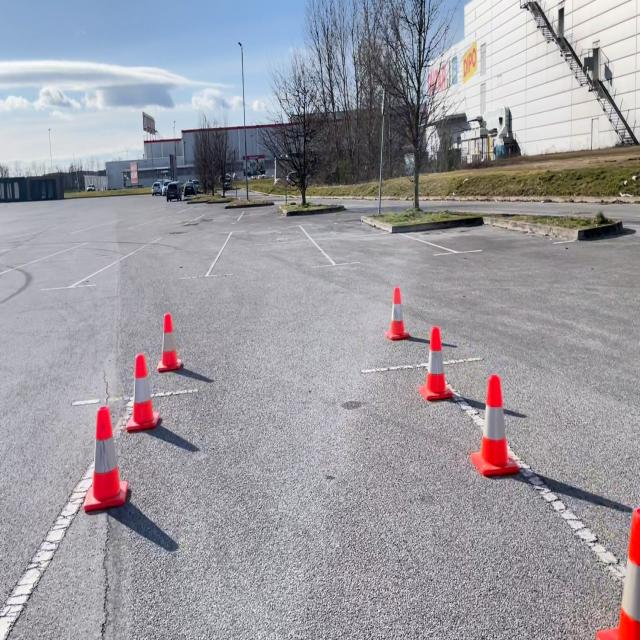orange_cone: (593, 508, 640, 639), (469, 370, 521, 477), (81, 404, 128, 512), (124, 350, 160, 432), (418, 324, 454, 400), (156, 310, 182, 371), (384, 284, 410, 341)
